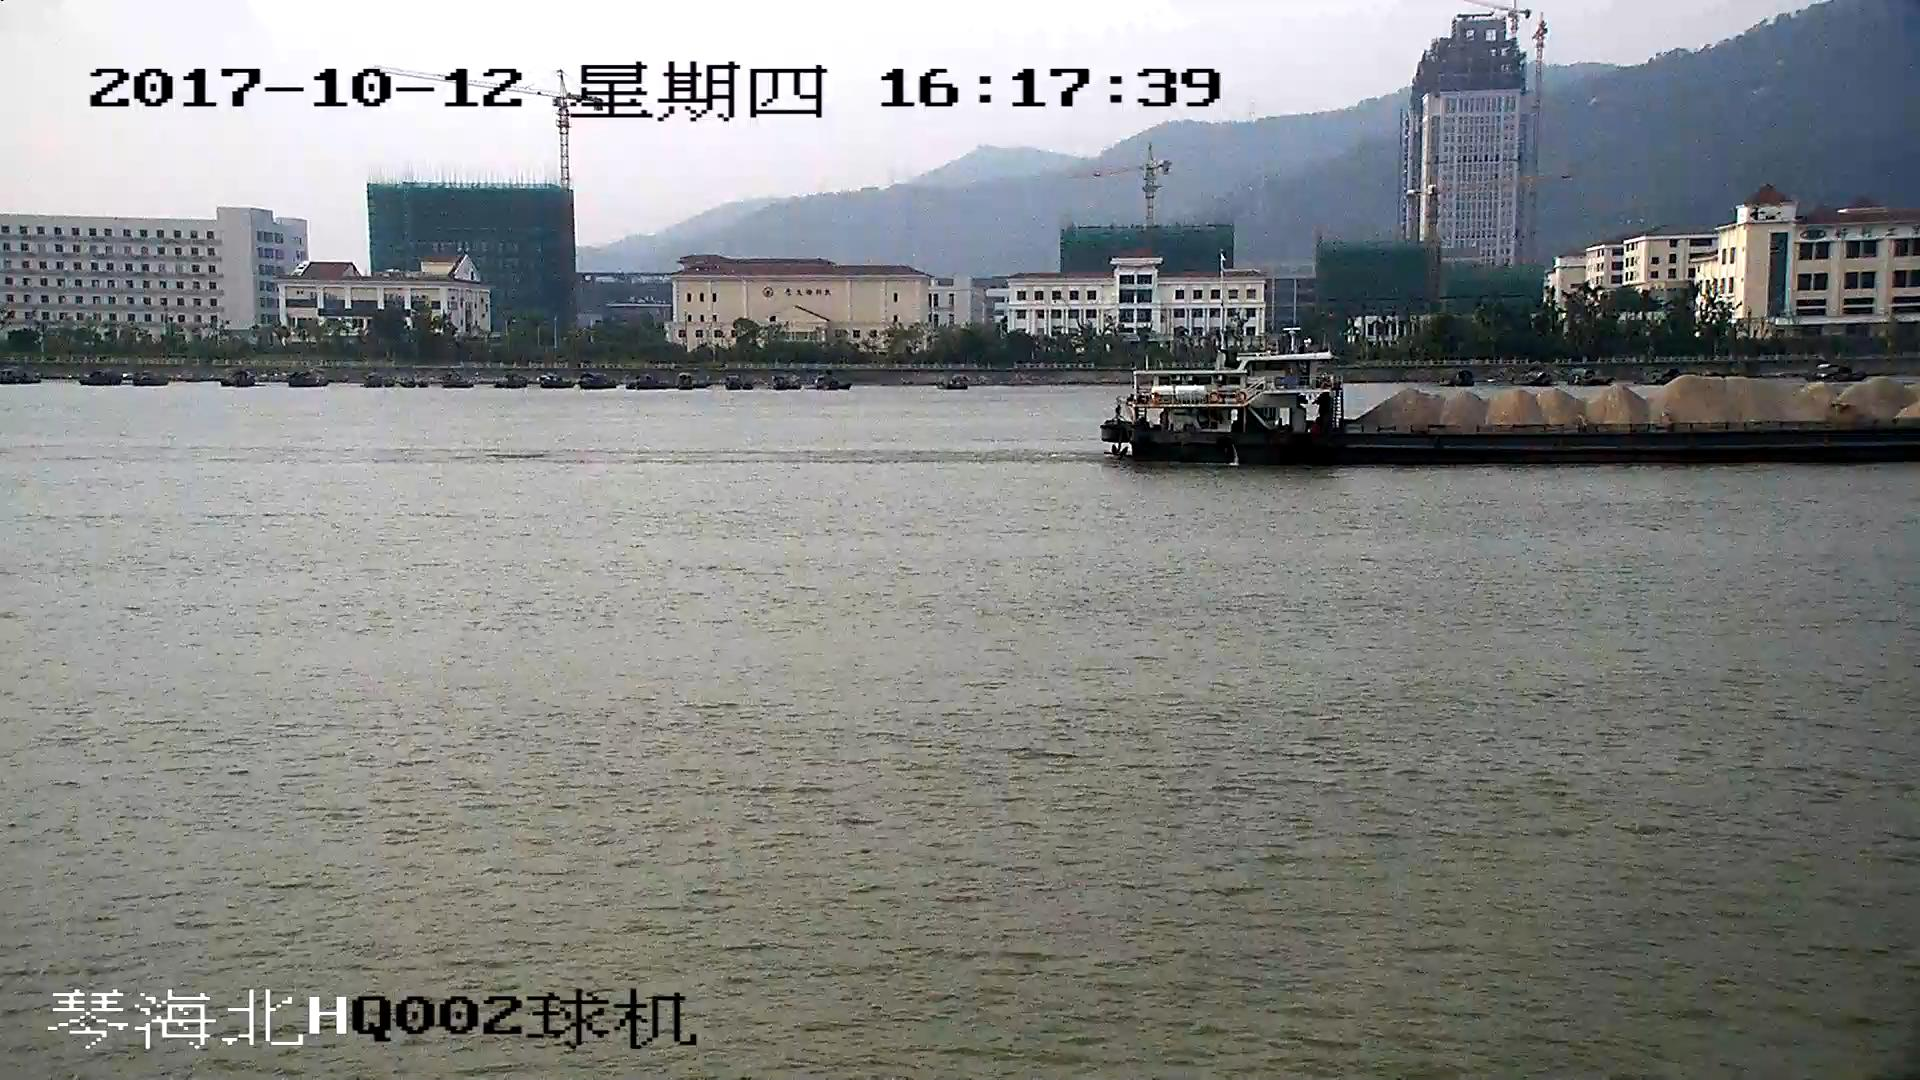ore carrier: (1104, 351, 1920, 470)
